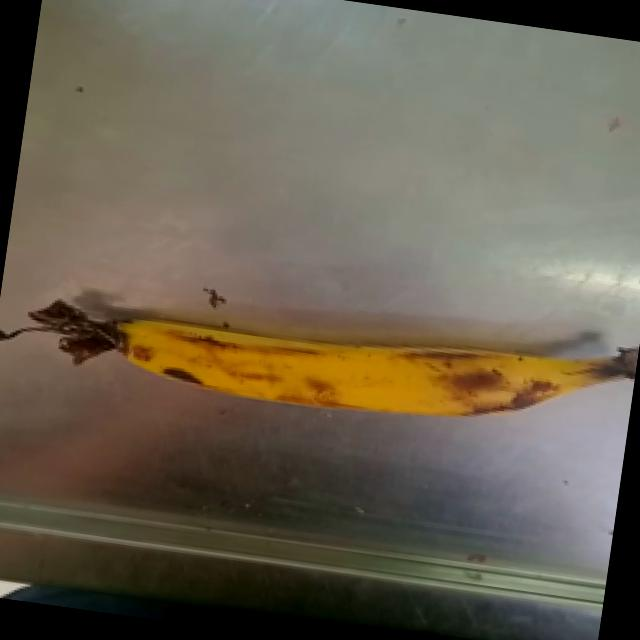Rotten_Banana: (0, 188, 636, 506)
